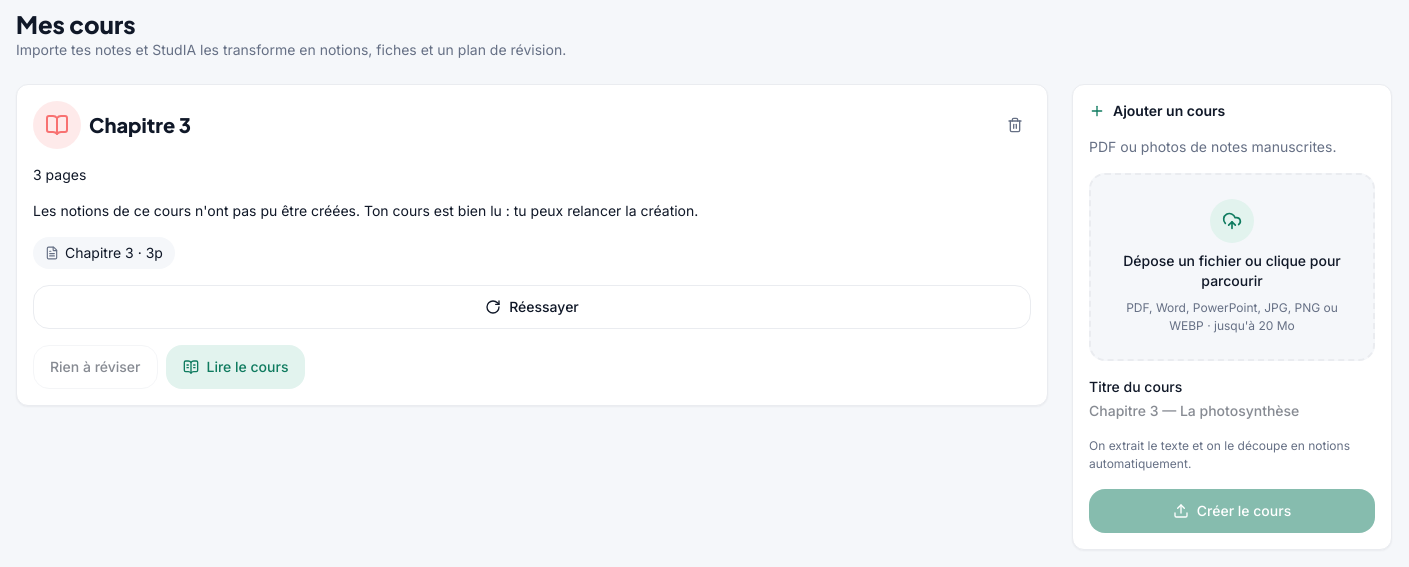
Test: DocumentsScreen — notion step › if the retry itself cannot be sent, says so plainly
The width and height of the screenshot is (1409, 567).
Click the button "Réessayer": (532, 307) top-left (33, 285), bottom-right (1031, 329)
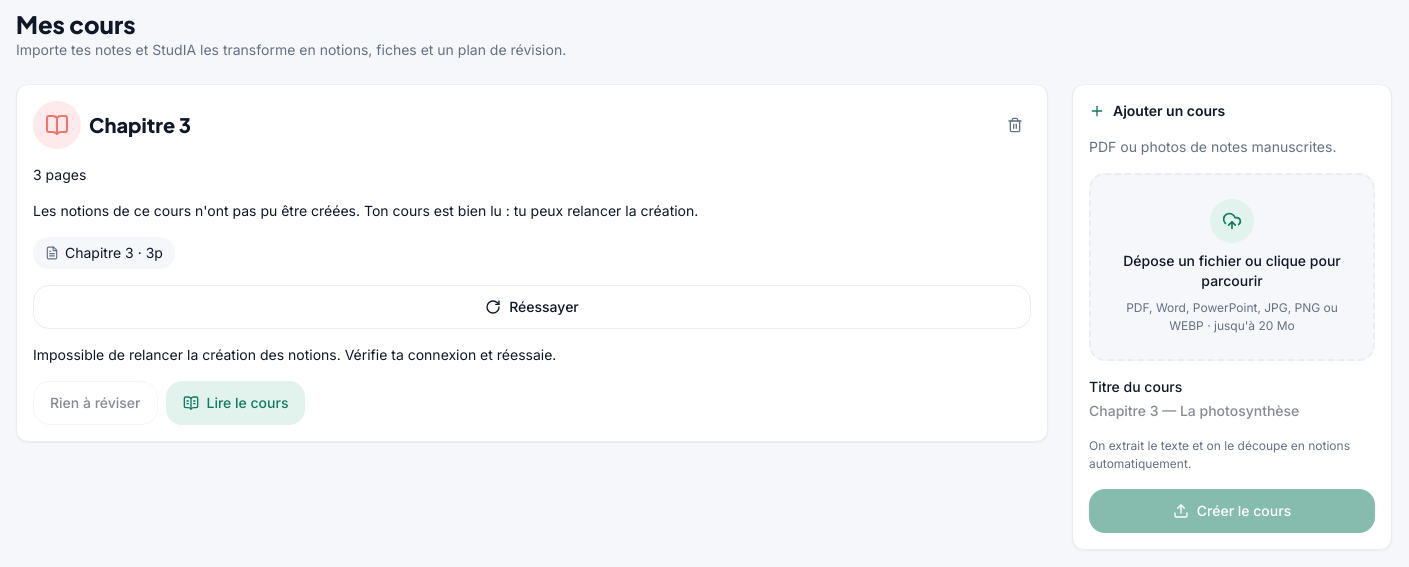
Expected: the message shows "Impossible de relancer la création des notions", top-left (33, 346), bottom-right (556, 363)
